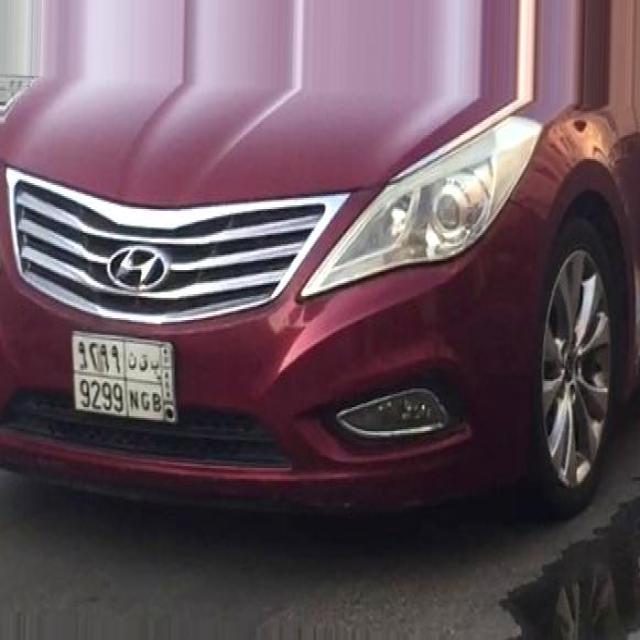Car-plate: (61, 318, 186, 440)
